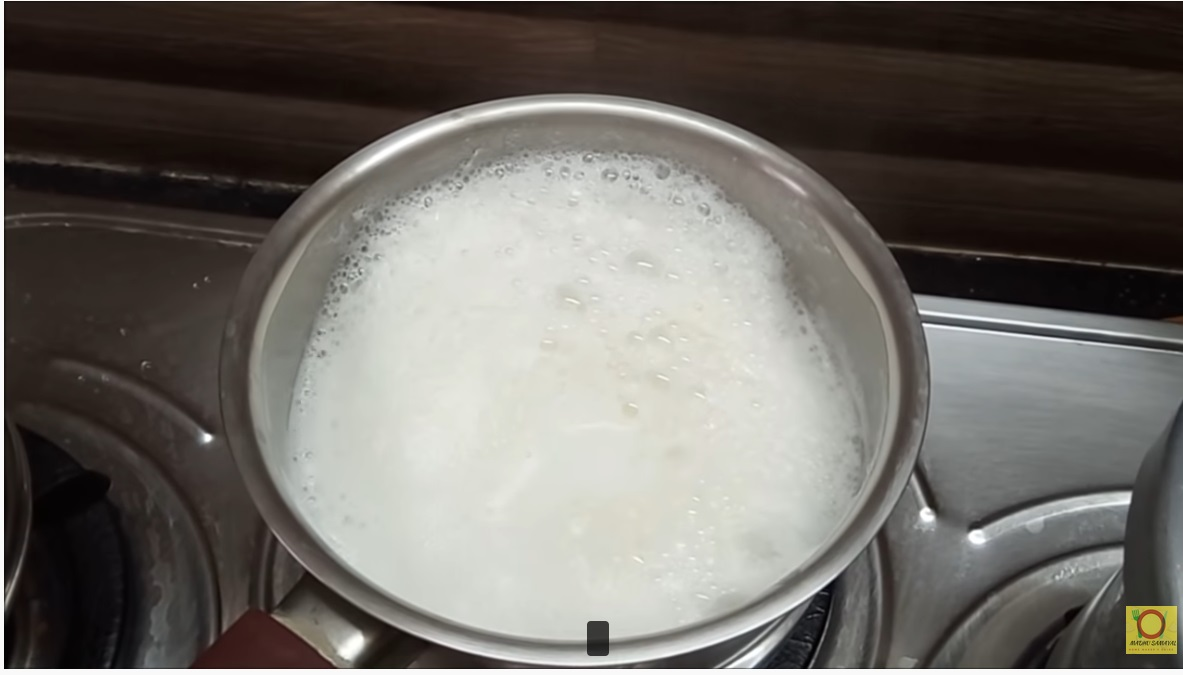Boiled: (207, 94, 909, 639)
